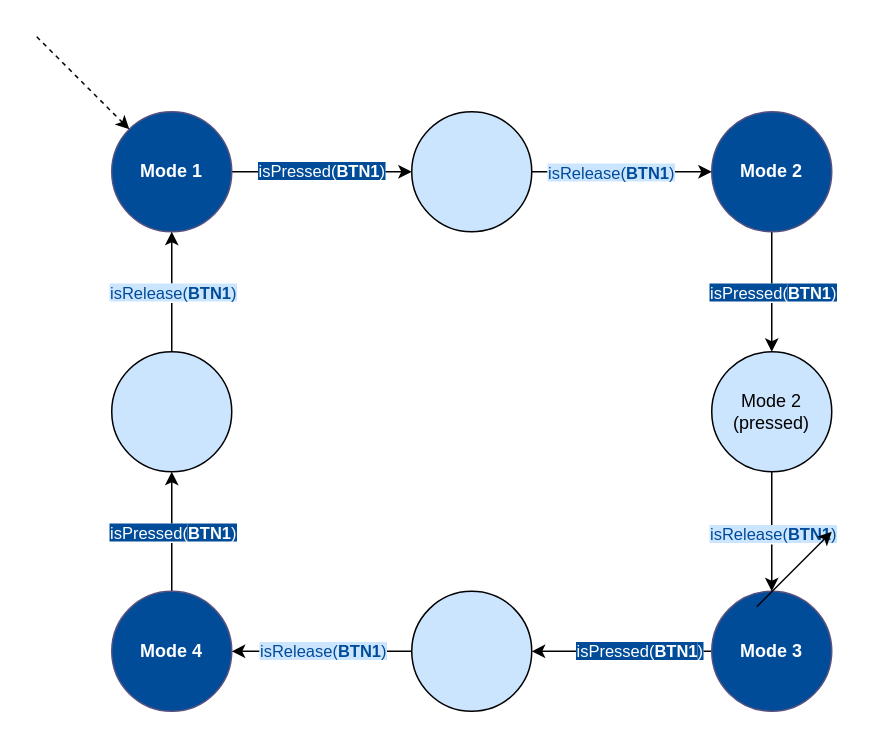
This 870x738 diagram has some shape labels left out. The shapes that lost their labels are listed below. From the top down, each one's box as (x1, y1, x2, y2) in pixels, then its label:
(410, 110, 532, 232): Mode 1 (pressed)
(110, 350, 232, 472): Mode 4 (pressed)
(410, 590, 532, 711): Mode 3 (pressed)
